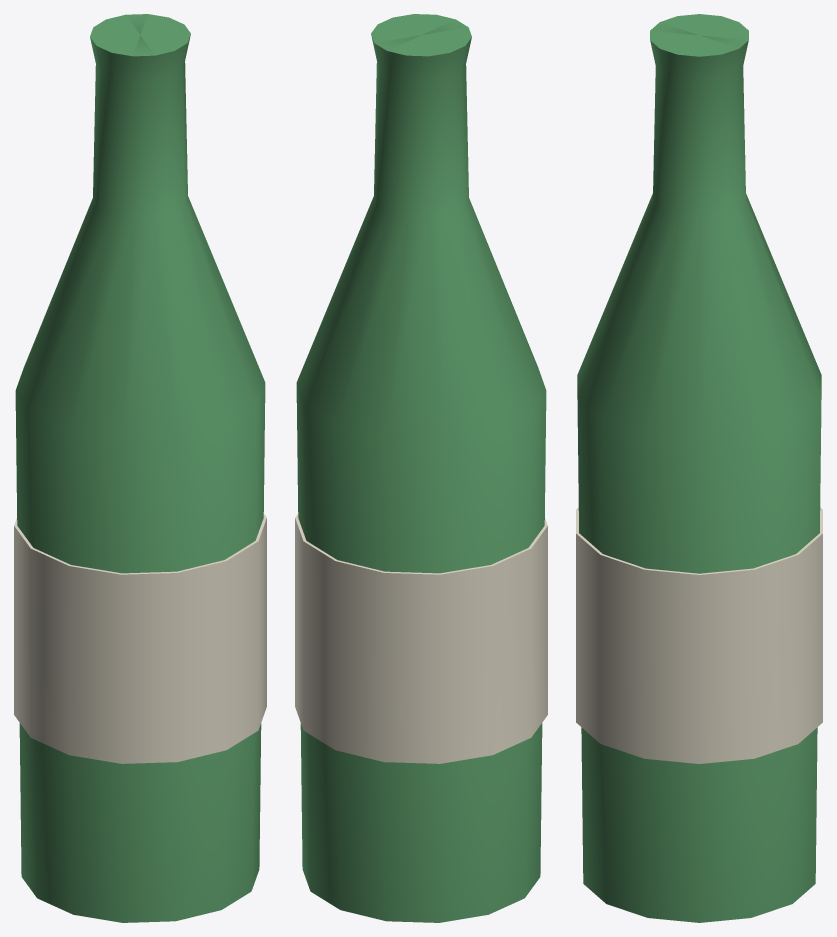
The model's file is bottle.glb.
3 renders of one model, left to right at view 1: azimuth 30°, elevation 25°; view 2: azimuth 150°, elevation 25°; view 3: azimuth 270°, elevation 25°, orthographic.
Parts seen in each view (by area): view 1: boat_glassg, boat_label2; view 2: boat_glassg, boat_label2; view 3: boat_glassg, boat_label2.
Part boxes in pixels (<box>): boat_glassg: <box>15,14,265,922</box>; boat_label2: <box>14,514,266,763</box>; boat_glassg: <box>296,14,546,922</box>; boat_label2: <box>295,514,547,763</box>; boat_glassg: <box>577,14,821,922</box>; boat_label2: <box>576,507,822,763</box>.
Size of the model in its own units: 0.085 by 0.31 by 0.0829.
